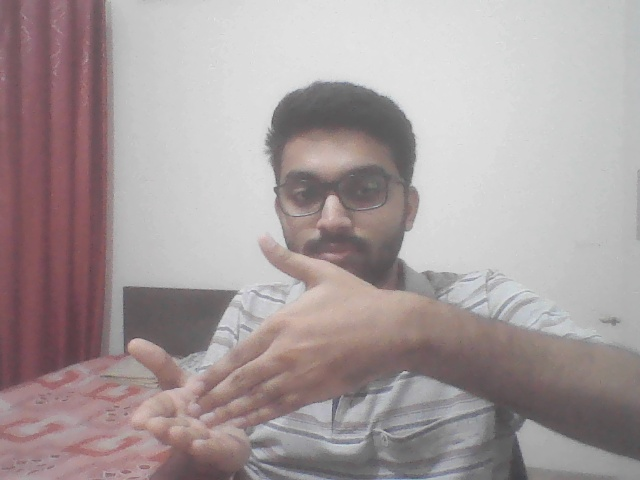again: (89, 230, 411, 473)
